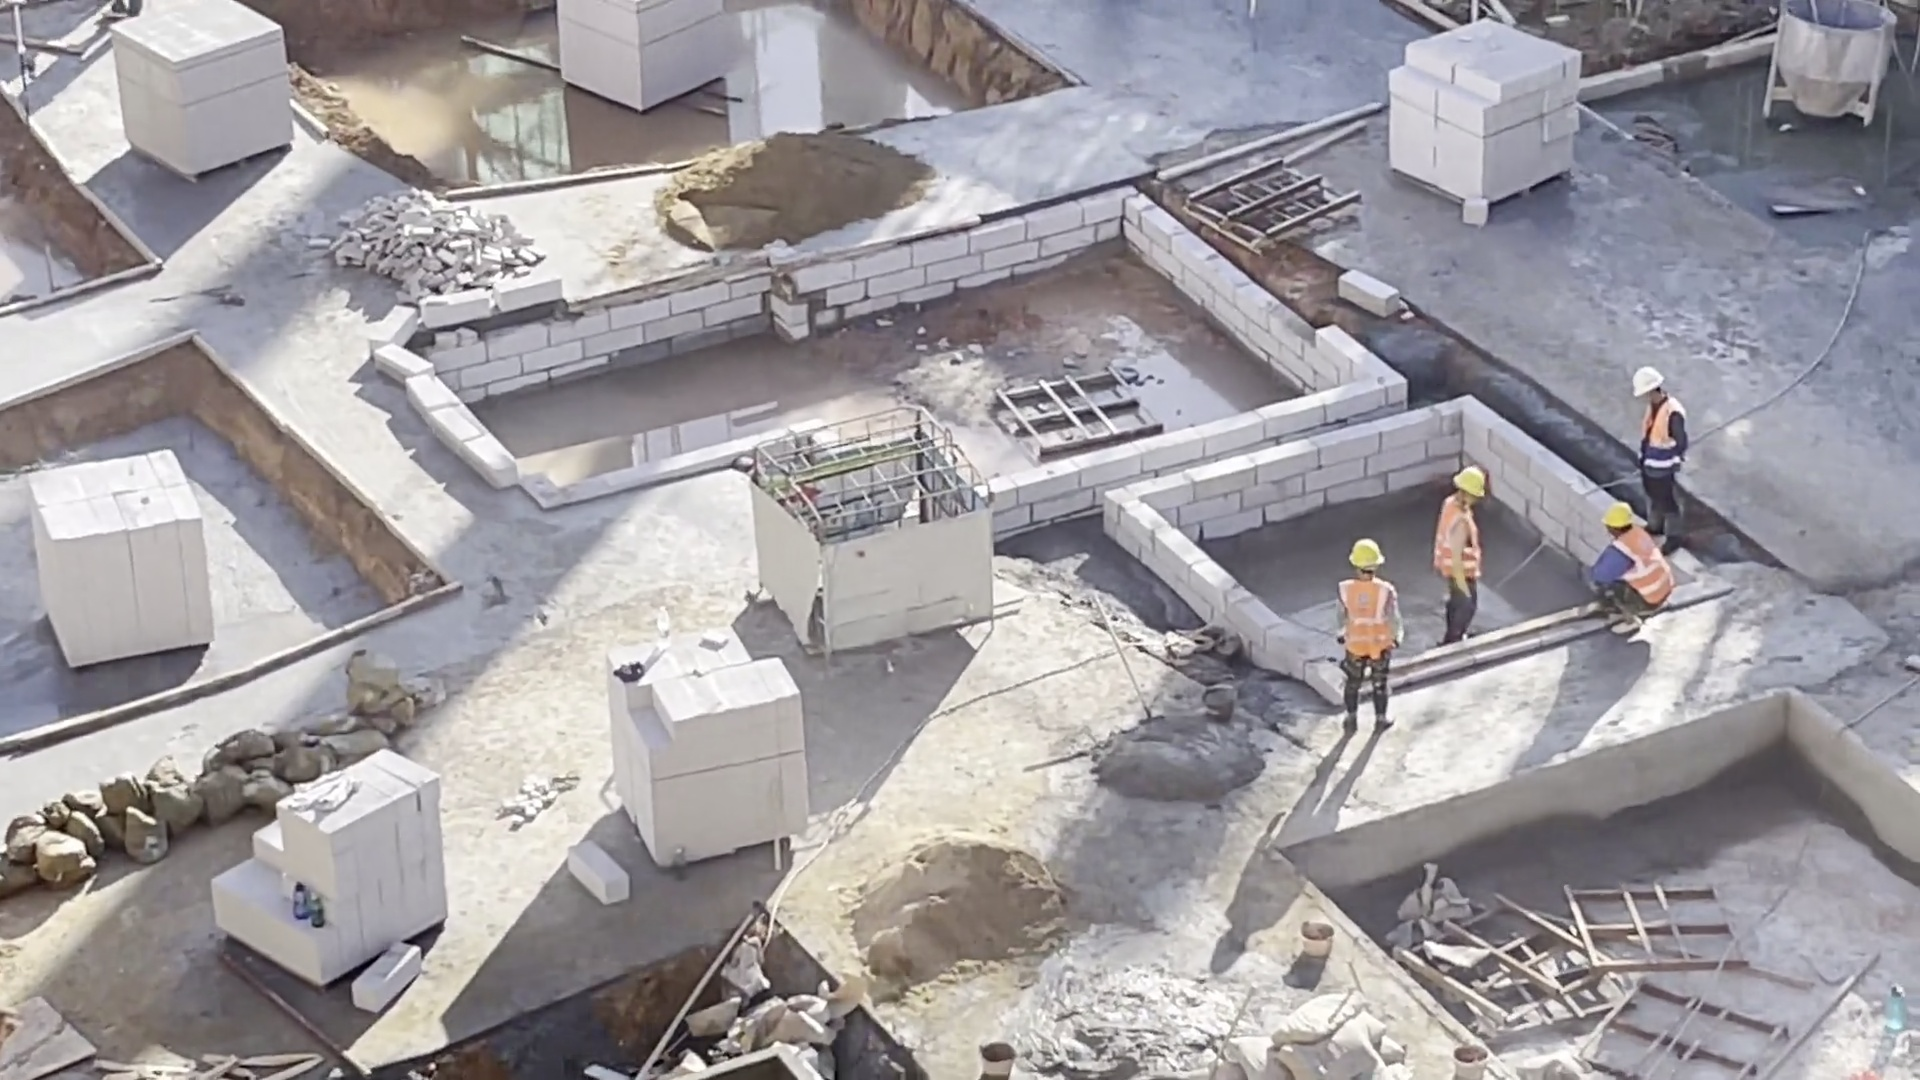brick: (597, 630, 821, 880), (206, 760, 459, 968), (15, 443, 234, 671), (1388, 24, 1595, 212)
helmet: (1450, 460, 1490, 501), (1627, 356, 1665, 394), (1346, 541, 1386, 575), (1602, 502, 1644, 533)
person: (1625, 354, 1699, 564), (1337, 529, 1404, 731), (1578, 497, 1674, 632), (1430, 441, 1488, 639)
vest: (1339, 571, 1398, 663), (1600, 529, 1670, 602), (1430, 493, 1483, 571), (1644, 398, 1698, 470)
